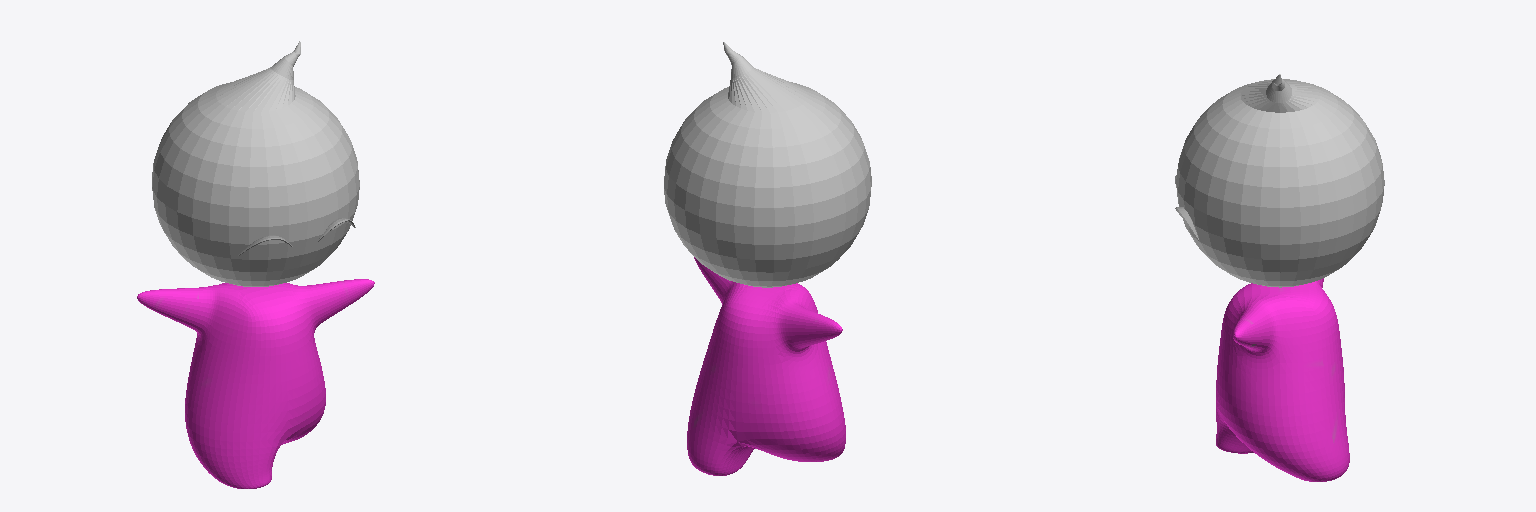
3 views of the same model, side by side, from view 1: azimuth 30°, elevation 25°; view 2: azimuth 150°, elevation 25°; view 3: azimuth 270°, elevation 25° (orthographic).
Visible parts, largest first — view 1: Plane_Plane.001; view 2: Plane_Plane.001; view 3: Plane_Plane.001.
Part boxes in pixels (bbox=[...]): Plane_Plane.001: bbox=[137, 41, 374, 488]; Plane_Plane.001: bbox=[664, 42, 871, 475]; Plane_Plane.001: bbox=[1175, 74, 1384, 481].
Size of the model in its own units: 1.12 by 2.27 by 1.06.
Materials: 2 (1 with a texture image).